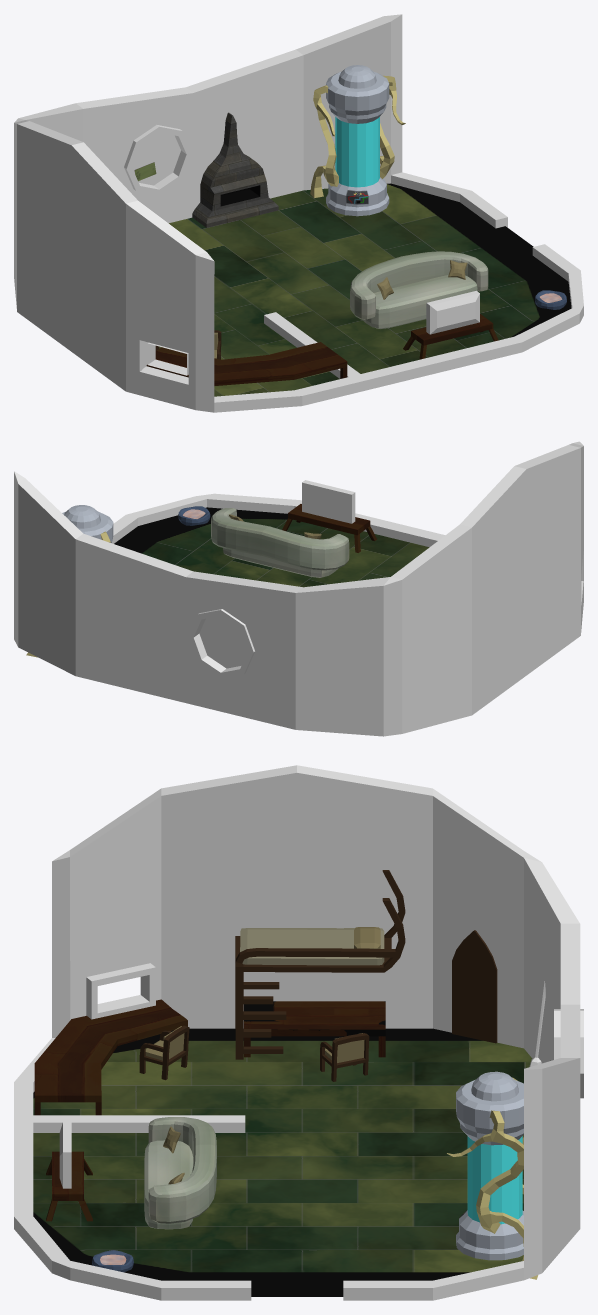
File: cabin_interior_draft.fbx
3 views of the same model, one above another, from view 1: azimuth 30°, elevation 25°; view 2: azimuth 150°, elevation 25°; view 3: azimuth 270°, elevation 25° (orthographic). The views are drawn at different scales.
Parts seen in each view (by area): view 1: walls, floor_wood, cloning_pod, furnace, kitchen table, Cube.006, couch, Plane.001, Cube, window_IMPORTANT, Cube.005, tv stand (+2 smaller); view 2: walls, floor_wood, Cube.006, Cube.005, Cube, window_IMPORTANT, tv stand, cloning_pod, couch, plush_bed; view 3: walls, floor_wood, cloning_pod, kitchen table, bed, Cube.006, desk, bathroom_door, Cube.018, Plane.001, food_hole, couch (+6 smaller).
Part boxes in pixels (left/top/right/bottom): walls: left=14, top=14, right=583, bottom=412; floor_wood: left=159, top=183, right=571, bottom=396; cloning_pod: left=326, top=65, right=389, bottom=216; furnace: left=192, top=112, right=278, bottom=227; kitchen table: left=146, top=342, right=347, bottom=385; Cube.006: left=350, top=251, right=488, bottom=319; couch: left=362, top=275, right=477, bottom=328; Plane.001: left=310, top=75, right=405, bottom=198; Cube: left=426, top=290, right=479, bottom=334; window_IMPORTANT: left=124, top=125, right=191, bottom=195; Cube.005: left=132, top=132, right=180, bottom=185; tv stand: left=403, top=314, right=498, bottom=359; walls: left=14, top=441, right=583, bottom=736; floor_wood: left=114, top=507, right=429, bottom=587; Cube.006: left=211, top=508, right=349, bottom=570; Cube.005: left=199, top=616, right=247, bottom=668; Cube: left=302, top=480, right=355, bottom=523; window_IMPORTANT: left=188, top=609, right=254, bottom=678; tv stand: left=282, top=504, right=376, bottom=552; cloning_pod: left=62, top=505, right=113, bottom=542; couch: left=223, top=534, right=338, bottom=577; plush_bed: left=178, top=506, right=210, bottom=525; walls: left=14, top=765, right=580, bottom=1300; floor_wood: left=33, top=1028, right=532, bottom=1296; cloning_pod: left=456, top=1071, right=523, bottom=1260; kitchen table: left=34, top=999, right=187, bottom=1115; bed: left=235, top=870, right=405, bottom=1059; Cube.006: left=148, top=1117, right=216, bottom=1223; desk: left=244, top=1001, right=385, bottom=1057; bathroom_door: left=452, top=930, right=497, bottom=1043; Cube.018: left=240, top=928, right=384, bottom=965; Plane.001: left=446, top=1077, right=538, bottom=1279; food_hole: left=86, top=963, right=155, bottom=1019; couch: left=144, top=1140, right=193, bottom=1229.
Size of the model in its own units: 1817 by 818 by 1578.
